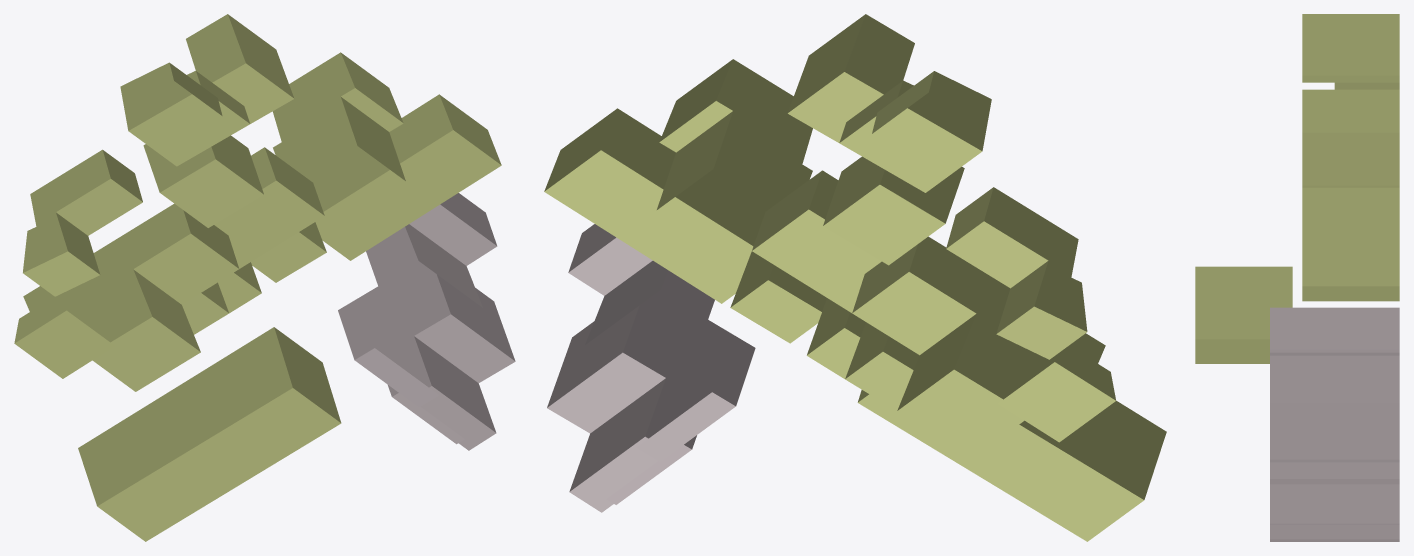
The picture shows the model from 3 angles, left to right: view 1: azimuth 30°, elevation 25°; view 2: azimuth 150°, elevation 25°; view 3: azimuth 270°, elevation 25°; orthographic projection. The views are drawn at different scales.
Parts seen in each view (by area): view 1: 0_0_1_2_0_0_3_0_0; view 2: 0_0_1_2_0_0_3_0_0; view 3: 0_0_1_2_0_0_3_0_0.
Part boxes in pixels (x1=…): 0_0_1_2_0_0_3_0_0: x1=14, y1=14, x2=515, y2=541; 0_0_1_2_0_0_3_0_0: x1=544, y1=14, x2=1166, y2=541; 0_0_1_2_0_0_3_0_0: x1=1195, y1=14, x2=1399, y2=541.
Bounding box in the file's own units: 47 × 44.26 × 18.9.
